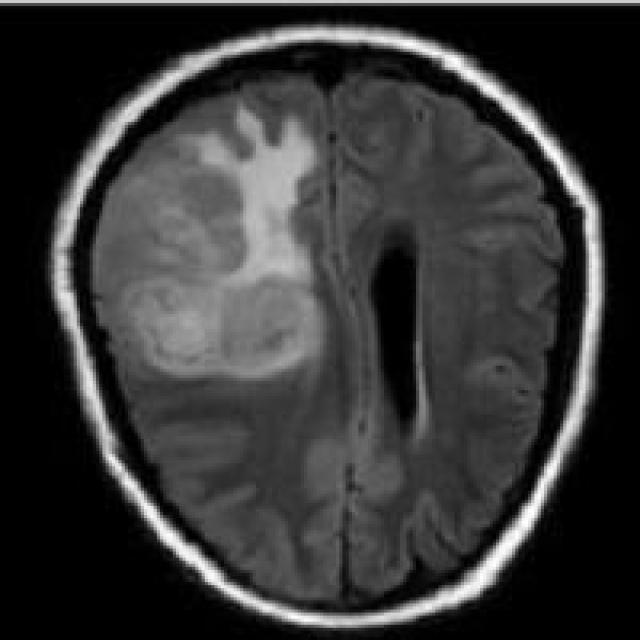brain tumor: (93, 101, 320, 381)
